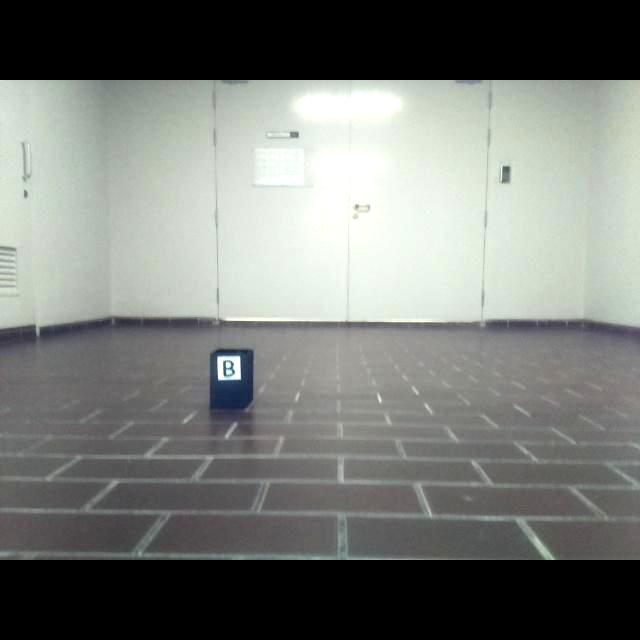B: (222, 359, 236, 378)
